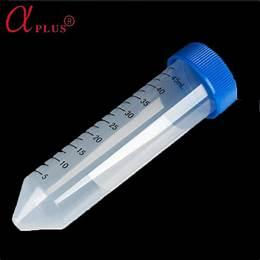Test tube: (22, 40, 243, 252)
